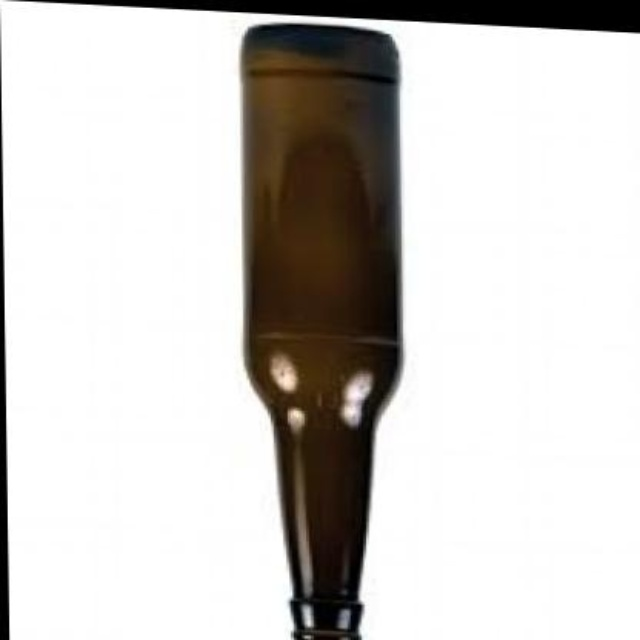trash: (243, 25, 398, 638)
